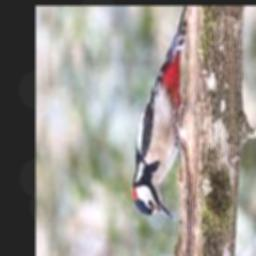Woodpecker: (132, 5, 187, 220)
